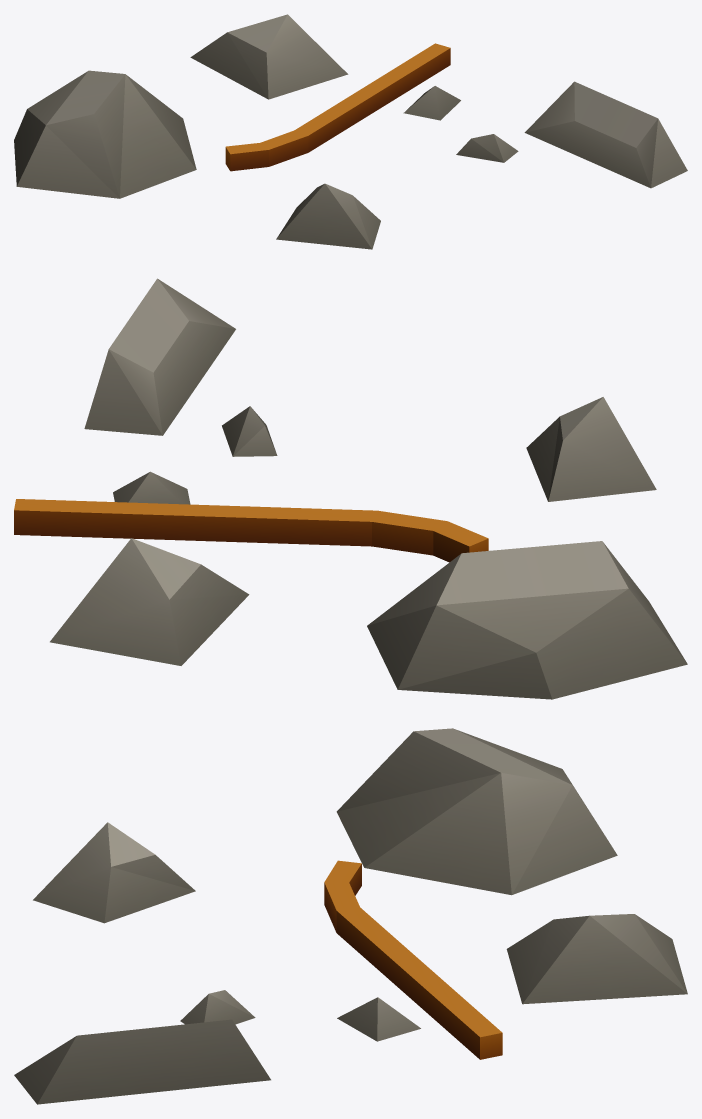
Rendered from Debris_Pile_1B.fbx.
The picture shows the model from 3 angles, top to bottom: view 1: azimuth 30°, elevation 25°; view 2: azimuth 150°, elevation 25°; view 3: azimuth 270°, elevation 25°; orthographic projection. The views are drawn at different scales.
Visible parts, largest first — view 1: Debris_Pile_1B; view 2: Debris_Pile_1B; view 3: Debris_Pile_1B.
Part boxes in pixels (<box>): Debris_Pile_1B: <box>14,14,687,249</box>; Debris_Pile_1B: <box>14,278,687,699</box>; Debris_Pile_1B: <box>14,728,687,1104</box>.
Size of the model in its own units: 2.54 by 0.2919 by 2.16.
